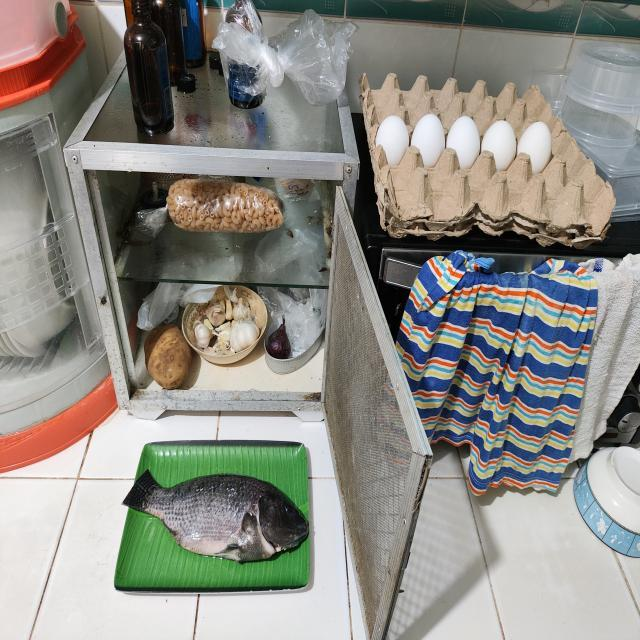egg: (481, 118, 521, 173), (447, 114, 485, 171), (516, 120, 554, 176), (412, 115, 446, 172), (377, 117, 410, 166)
fish: (121, 469, 309, 562)
garlic: (192, 294, 261, 354)
onion: (267, 323, 292, 360)
potato: (144, 325, 192, 390)
